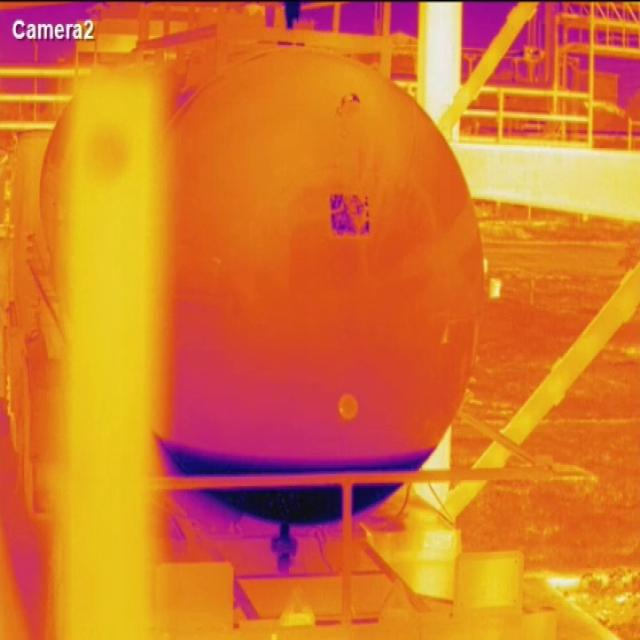tank: (155, 43, 483, 528)
